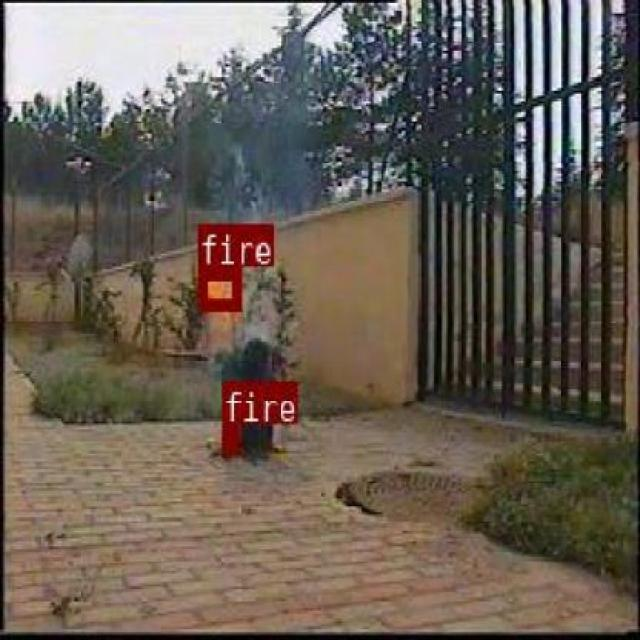Fire: (198, 264, 238, 310), (220, 424, 236, 448)
